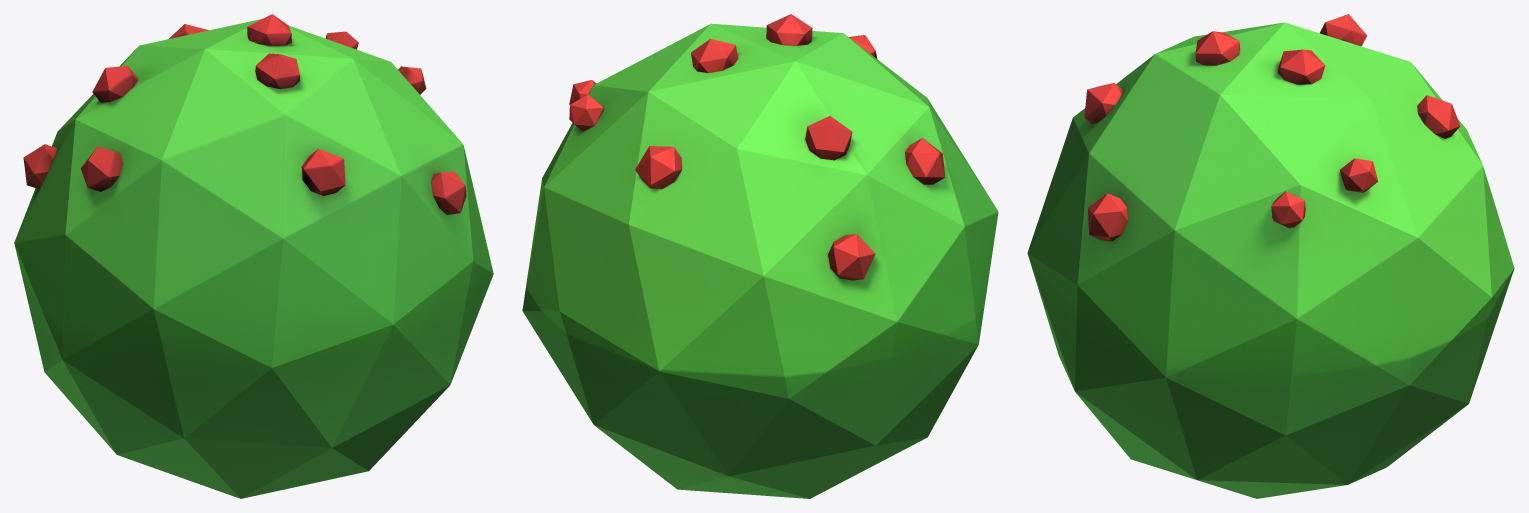
The model's file is OpFoalige.FBX.
The picture shows the model from 3 angles, left to right: view 1: azimuth 30°, elevation 25°; view 2: azimuth 150°, elevation 25°; view 3: azimuth 270°, elevation 25°; orthographic projection.
Parts seen in each view (by area): view 1: Fooalige; view 2: Fooalige; view 3: Fooalige.
Boxes of the visible parts, x1=… form: Fooalige: x1=14, y1=14, x2=493, y2=498; Fooalige: x1=522, y1=14, x2=998, y2=498; Fooalige: x1=1027, y1=14, x2=1514, y2=498.
Size of the model in its own units: 467 by 476 by 481.
1 material, 1 textured.
